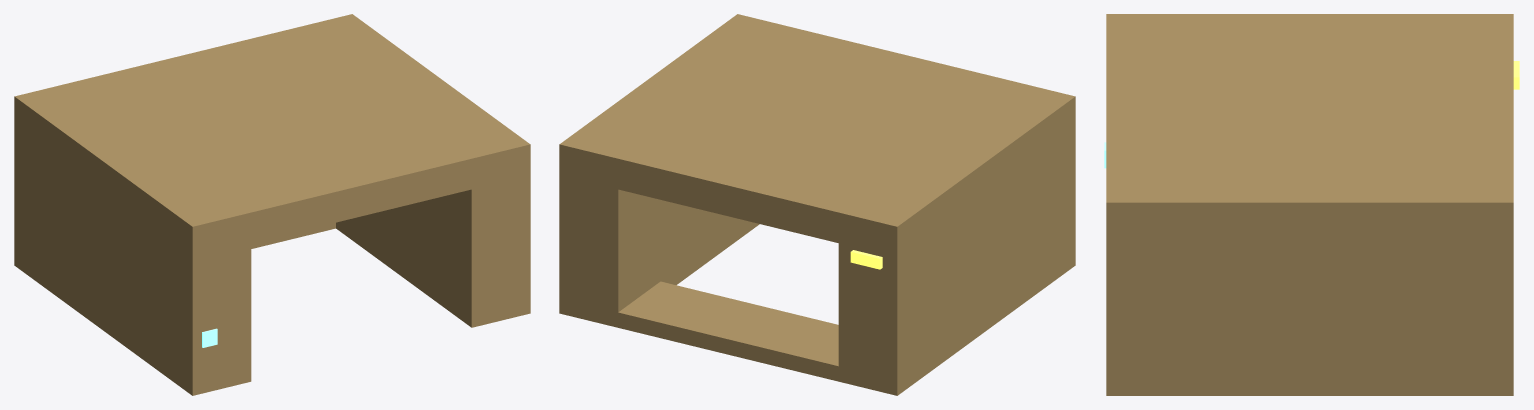
File: drone_depot_lod1-DmZGZHBA.glb
3 renders of one model, left to right at view 1: azimuth 30°, elevation 25°; view 2: azimuth 150°, elevation 25°; view 3: azimuth 270°, elevation 25°, orthographic. The views are drawn at different scales.
Parts seen in each view (by area): view 1: body; view 2: body, sign; view 3: body.
Boxes of the visible parts, x1,y1,x2,y2 form: body: (14,14,530,395); body: (559,14,1075,395); sign: (850,250,882,269); body: (1106,14,1513,395).
Bounding box in the file's own units: 0.92 × 0.44 × 0.856.
